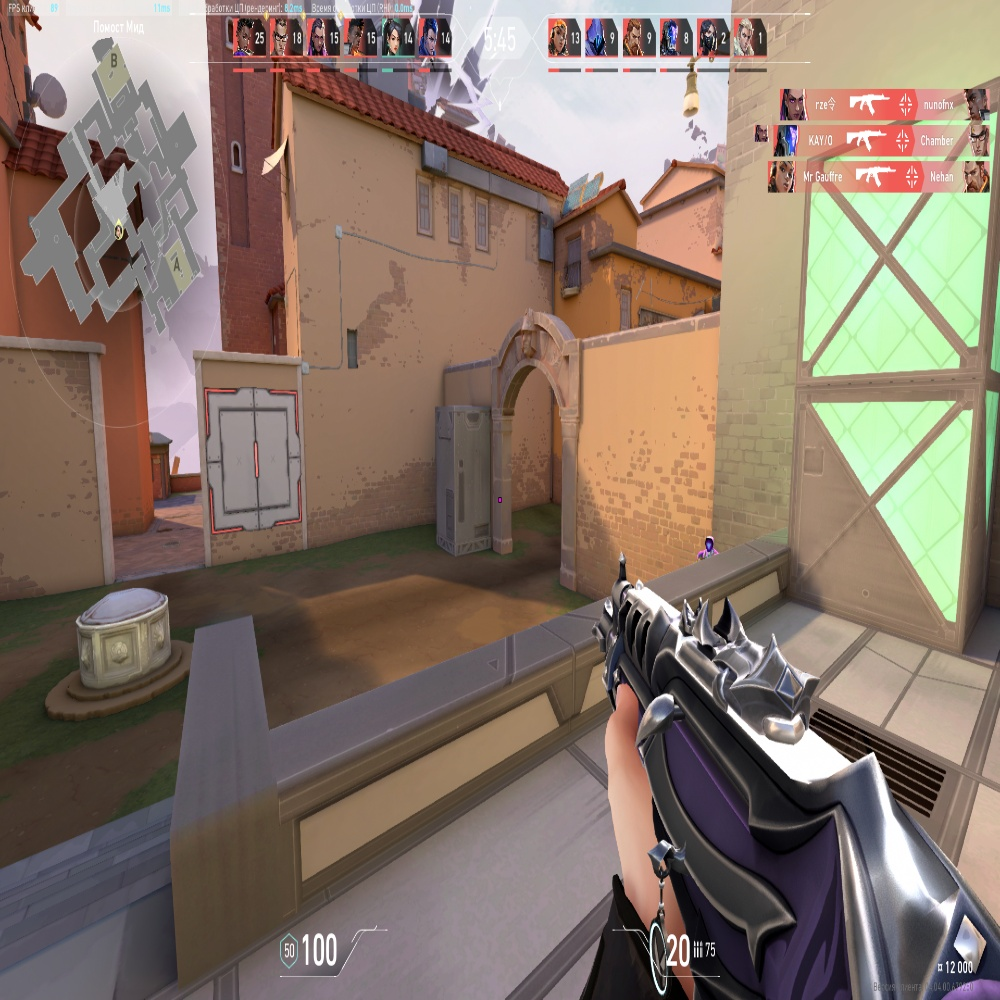body: (697, 552, 716, 559)
head: (704, 538, 714, 552)
